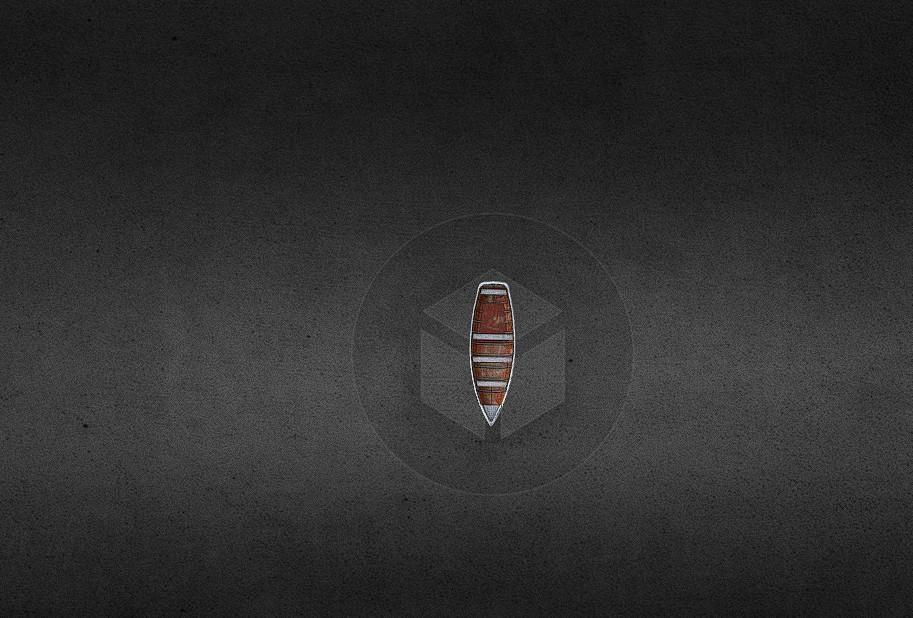Boat: (468, 280, 515, 426)
